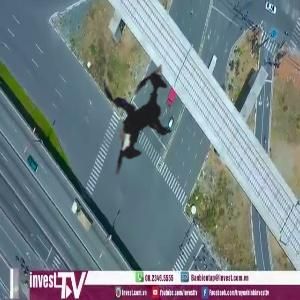drone: (43, 29, 227, 213)
